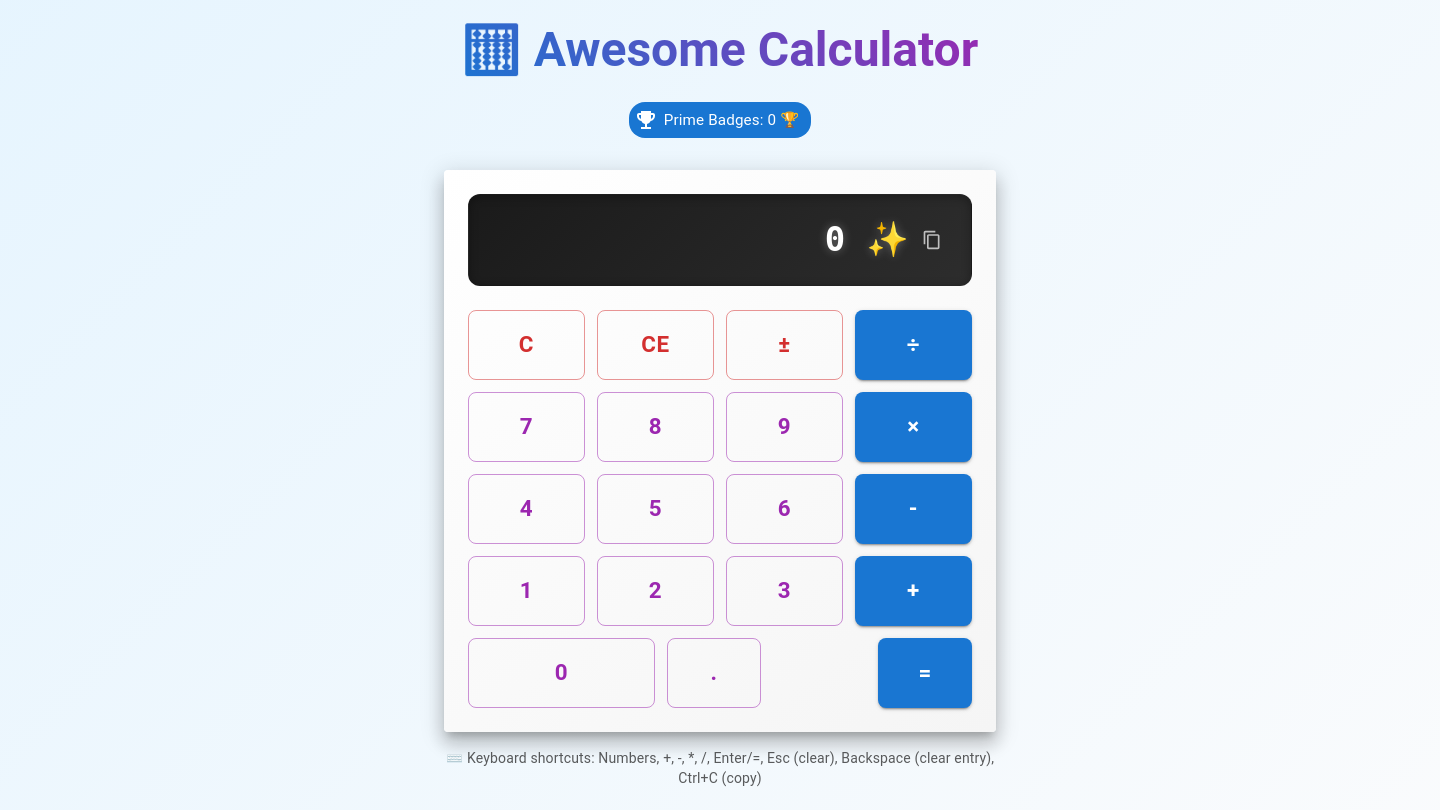
Test: Calculator › Basic Functionality › handles decimal input correctly
Click the button "3". click: point(784, 591)
box: [726,556,843,626]
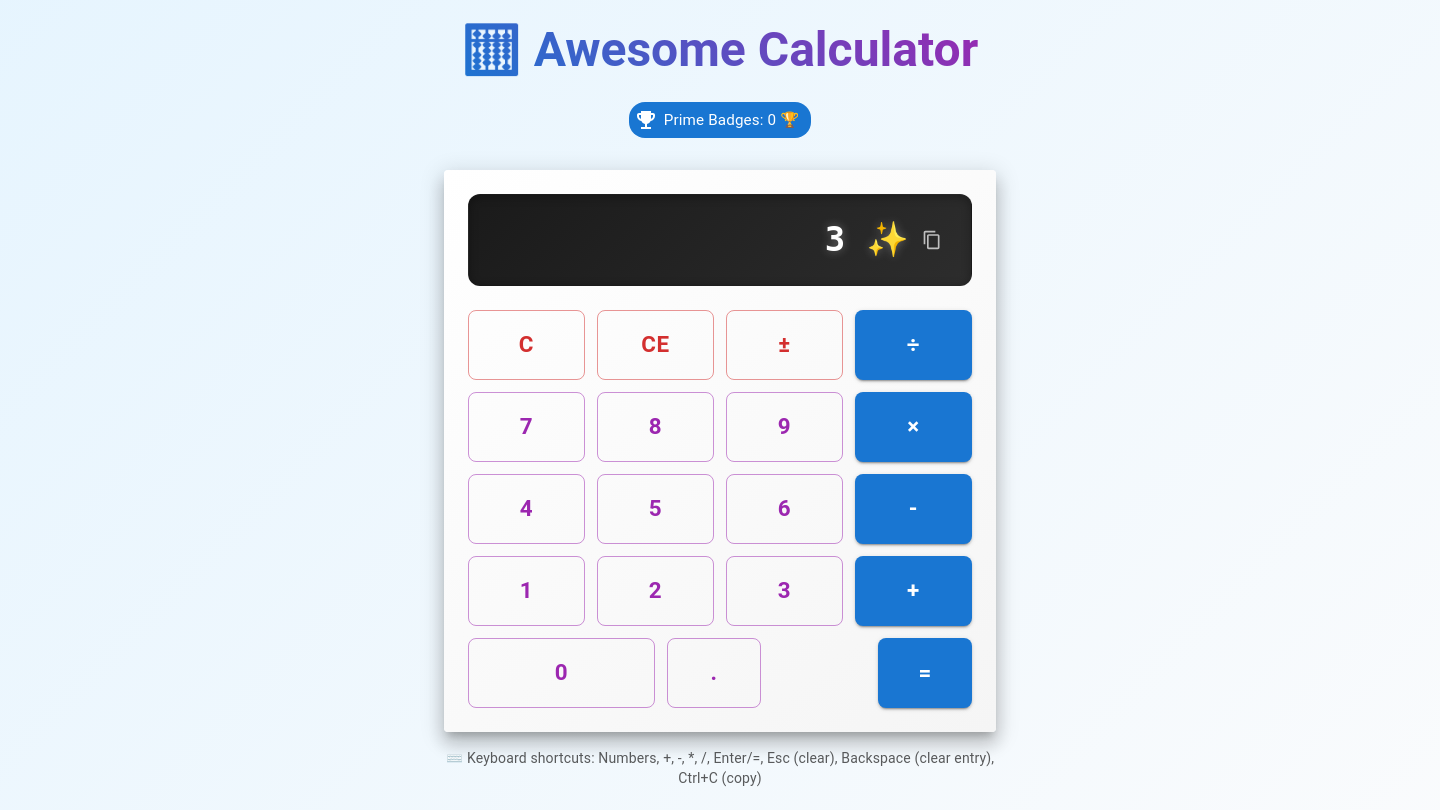
Click the button ".". click: point(714, 673)
box: [667,638,761,708]
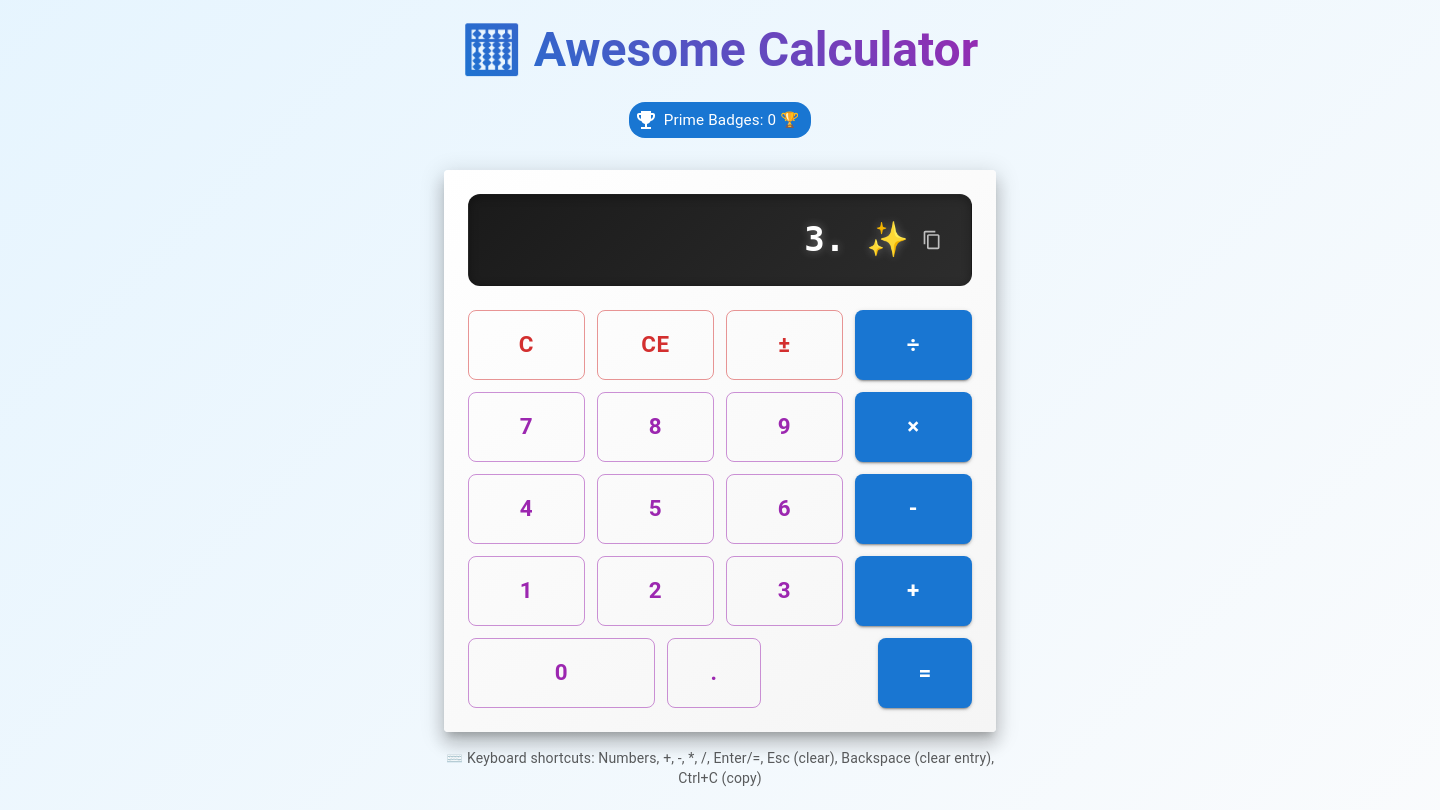
Click the button "1". click: point(526, 591)
box: [468,556,585,626]
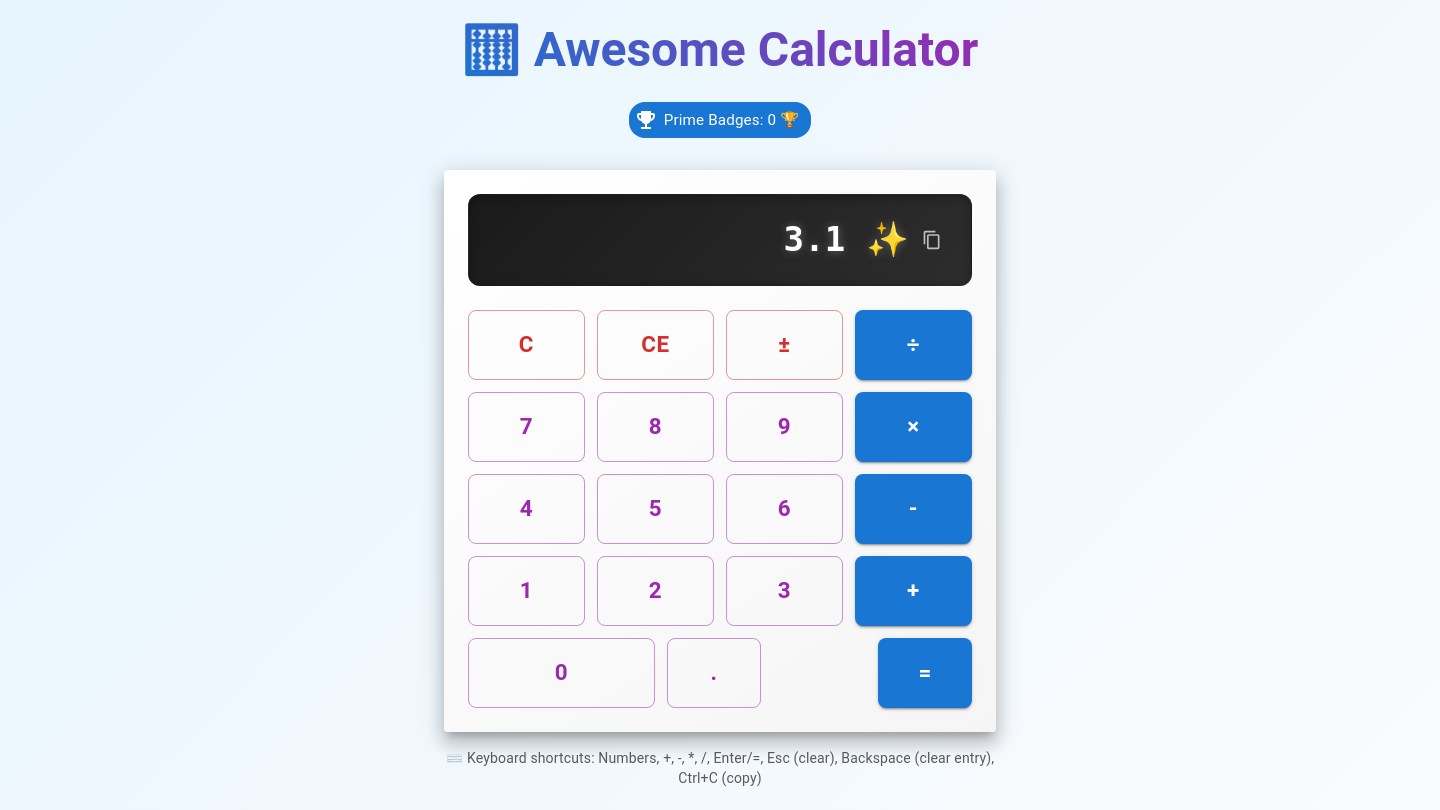
Click the button "4". click: point(526, 509)
box: [468,474,585,544]
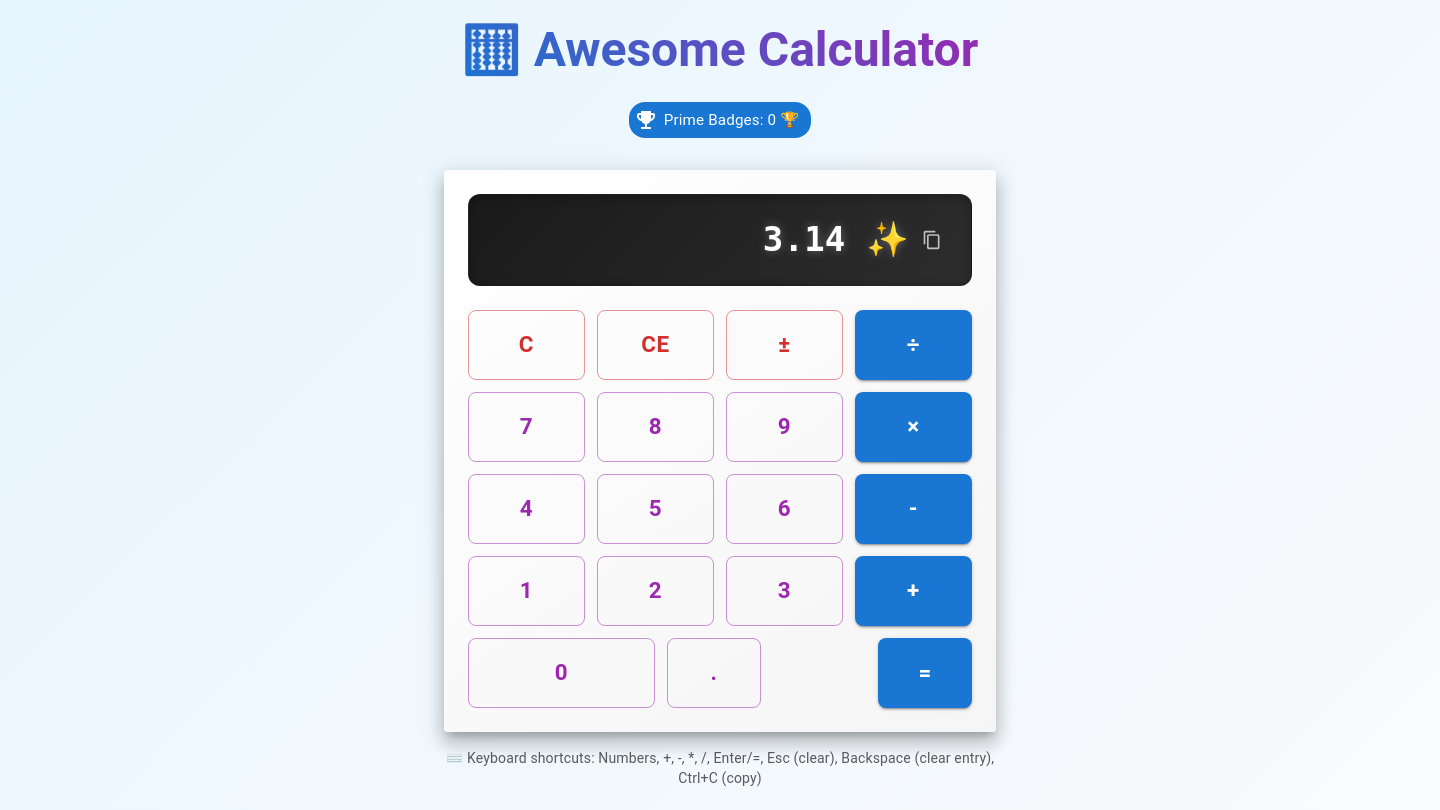
Now the text "3.14 ✨" is shown, box [763,219,909,261]
